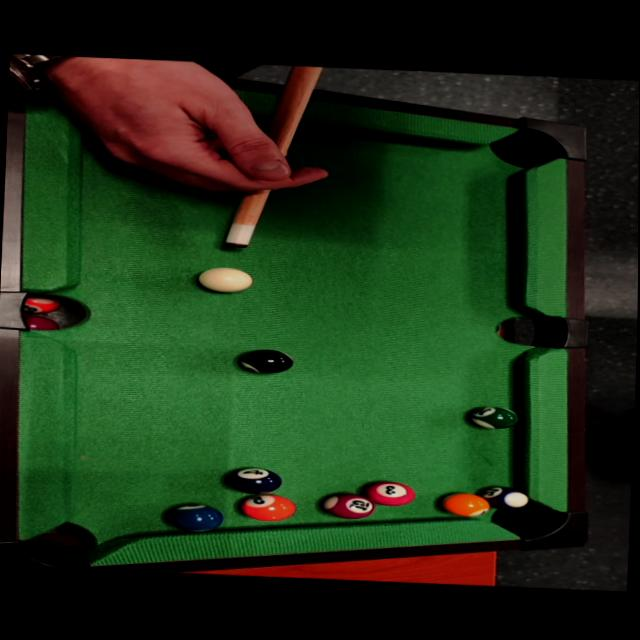cue ball: (195, 265, 254, 293)
other: (221, 465, 285, 498), (234, 493, 303, 523), (162, 503, 226, 535), (232, 345, 297, 375), (358, 478, 415, 509), (475, 484, 530, 513), (320, 490, 373, 520), (461, 403, 522, 429), (434, 491, 489, 518)
